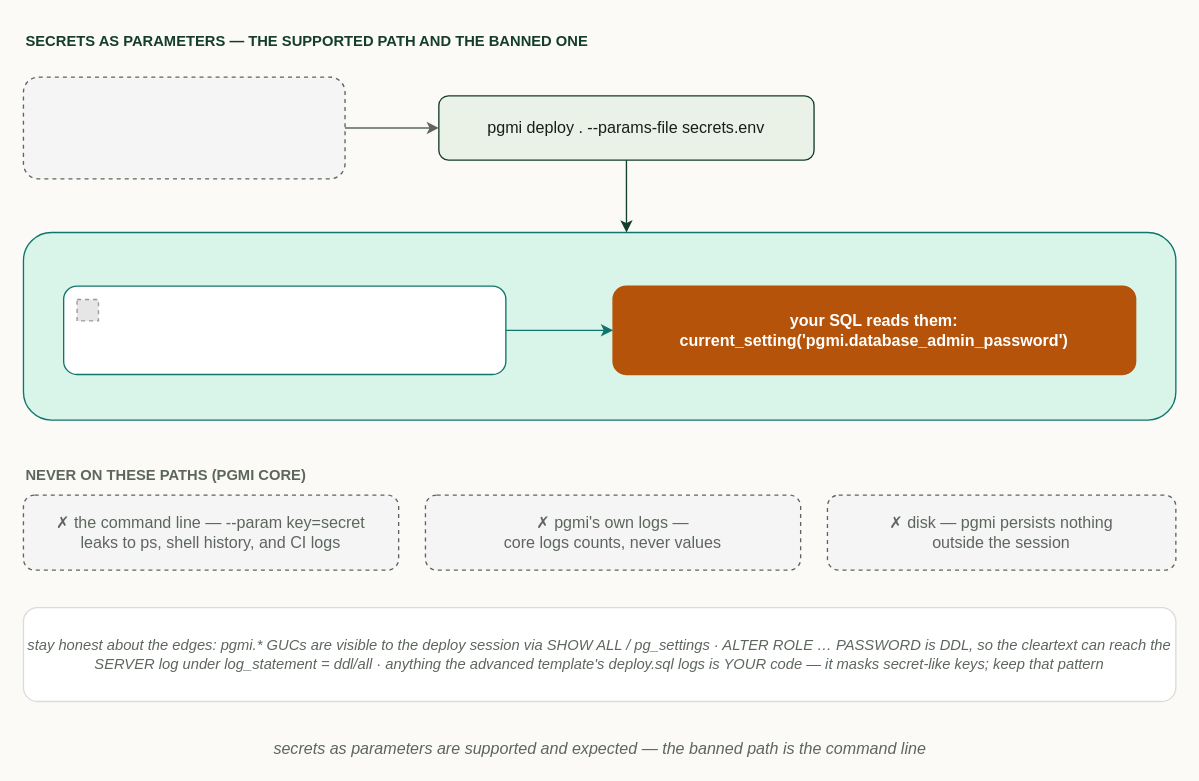
Image size: 1199x781. Some labels were removed from this diagram. Grey dashed boxes stand in for pictures. Each missing label, with the box of its shape:
_pgmi_parameter — session temp table + pgmi.* session GUCs: (62, 285, 506, 375)
one PostgreSQL session — gone when it ends: (22, 231, 1176, 420)
secrets file — CI-generated, never committed (database_admin_password=…): (22, 76, 345, 179)
